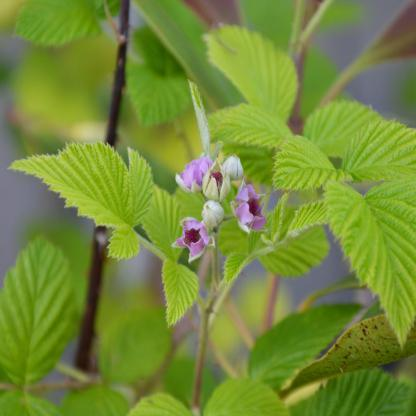Raspberry leaf: (321, 179, 416, 348), (6, 138, 137, 230), (206, 20, 303, 122)
